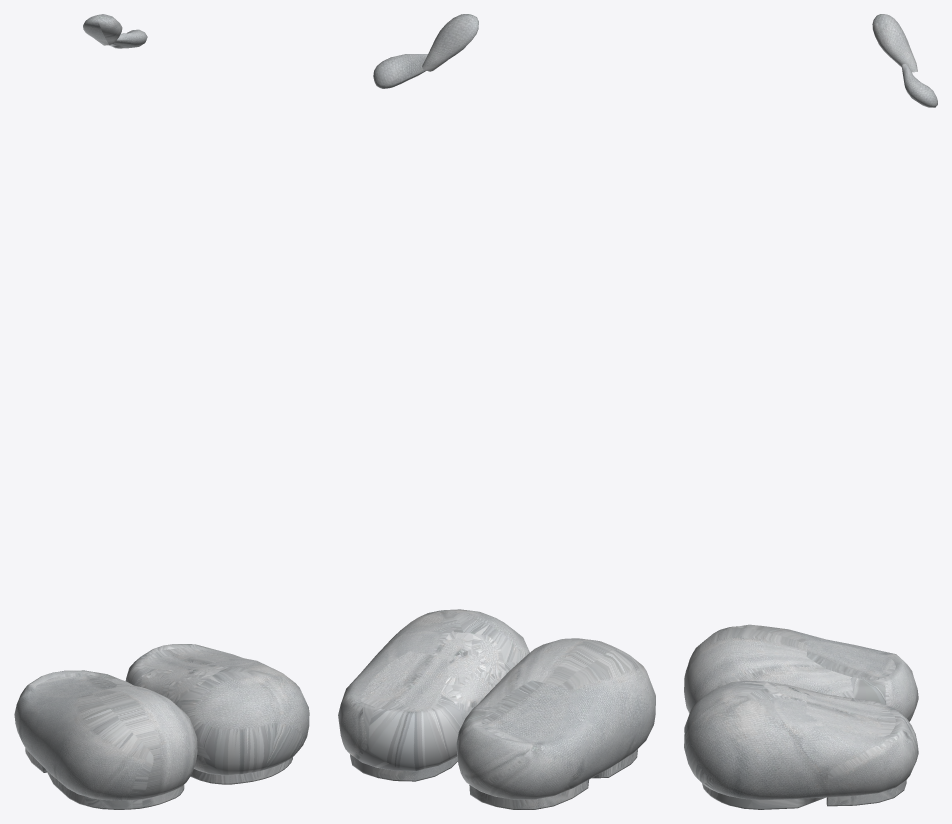
File: shoe.obj
3 views of the same model, side by side, from view 1: azimuth 30°, elevation 25°; view 2: azimuth 150°, elevation 25°; view 3: azimuth 270°, elevation 25° (orthographic). The views are drawn at different scales.
Visible parts, largest first — view 1: glove; view 2: glove; view 3: glove.
Boxes of the visible parts, x1,y1,x2,y2 form: glove: [14, 14, 309, 809]; glove: [338, 14, 655, 809]; glove: [684, 14, 937, 809].
Bounding box in the file's own units: 2.25 × 6.51 × 2.05.
